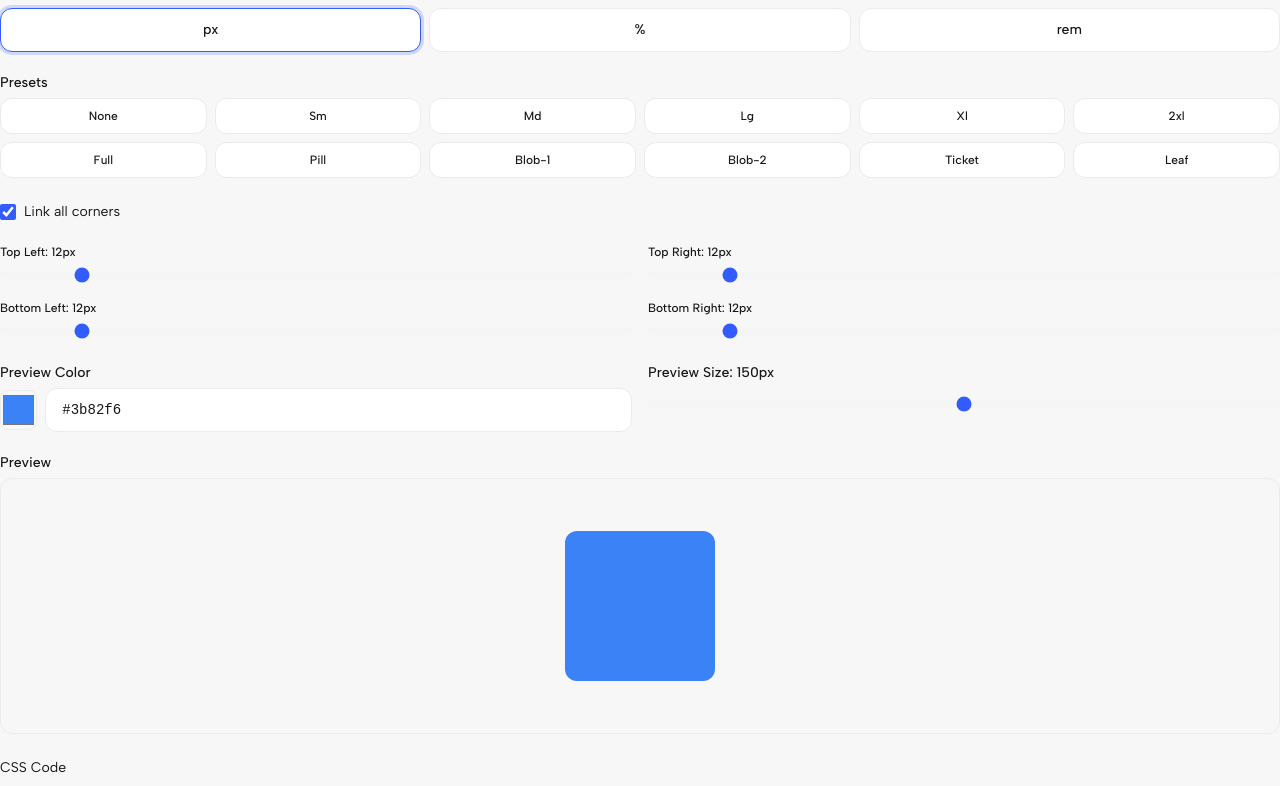
BorderRadiusGeneratorTool › applies pill preset and changes unit to %
Click the button "pill" at (318, 160), box [215, 142, 421, 178]
(page scrolled)
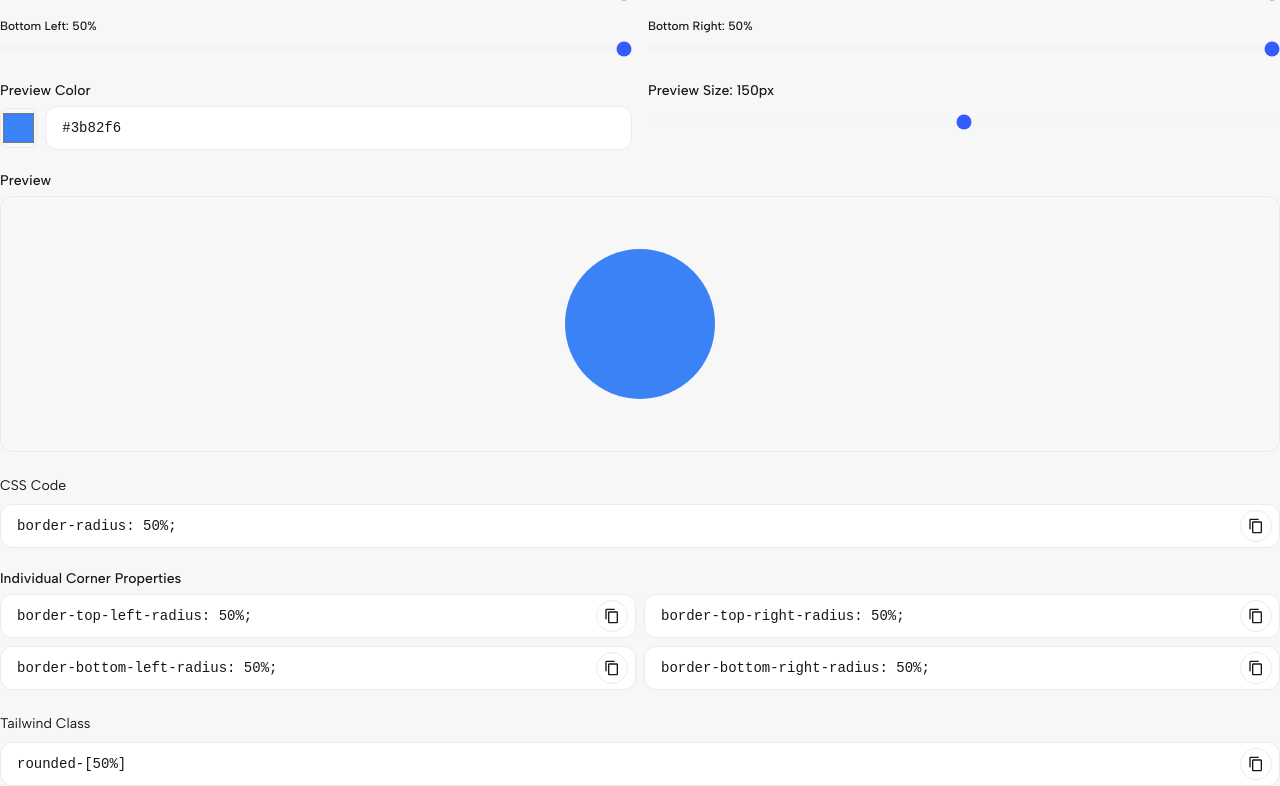
Result: the field below "CSS Code" holds "border-radius: 50%;" at [0, 504, 1279, 548]
